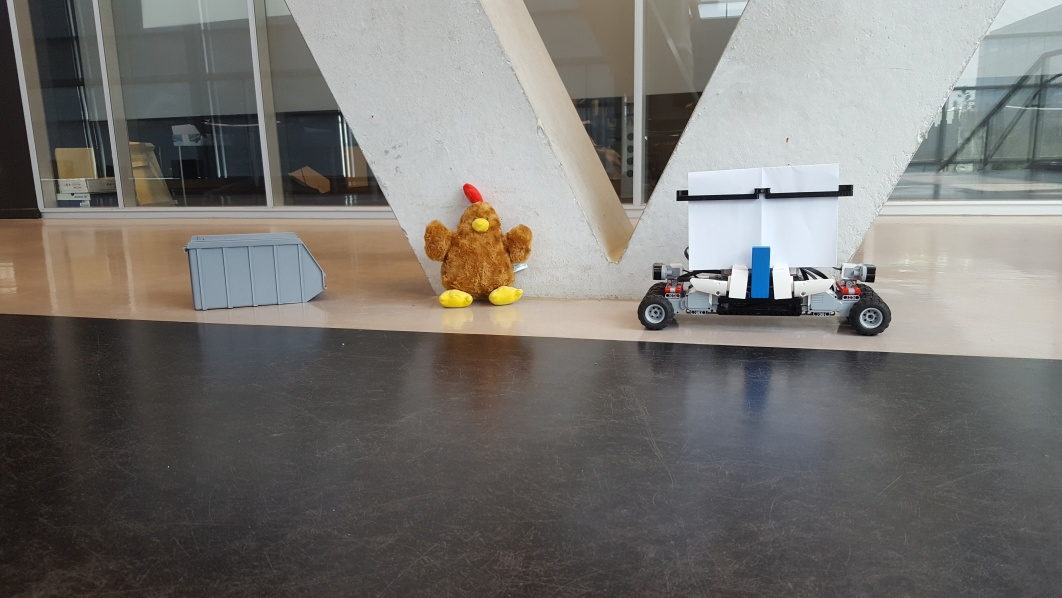beam: (752, 243, 773, 303)
chicken: (425, 185, 531, 310)
tray: (184, 230, 329, 312)
